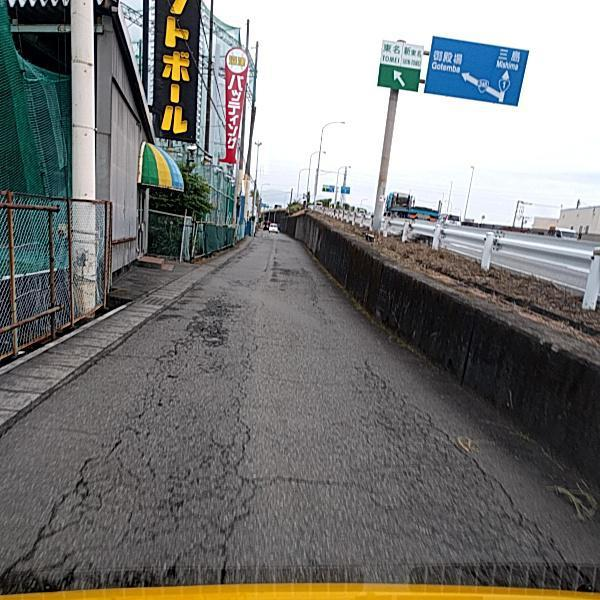D20: (7, 346, 579, 589)
